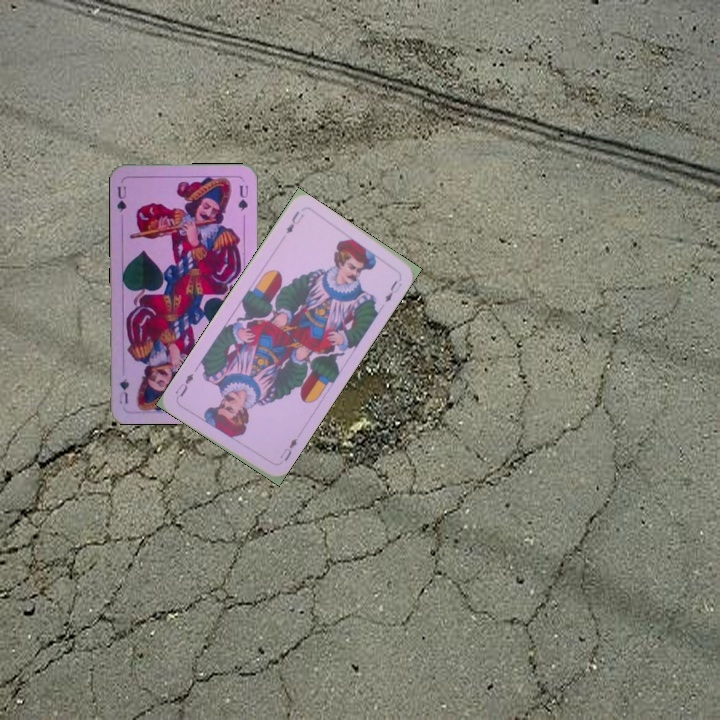EU: (276, 431, 302, 464), (282, 207, 306, 236)
GU: (113, 182, 129, 215)
